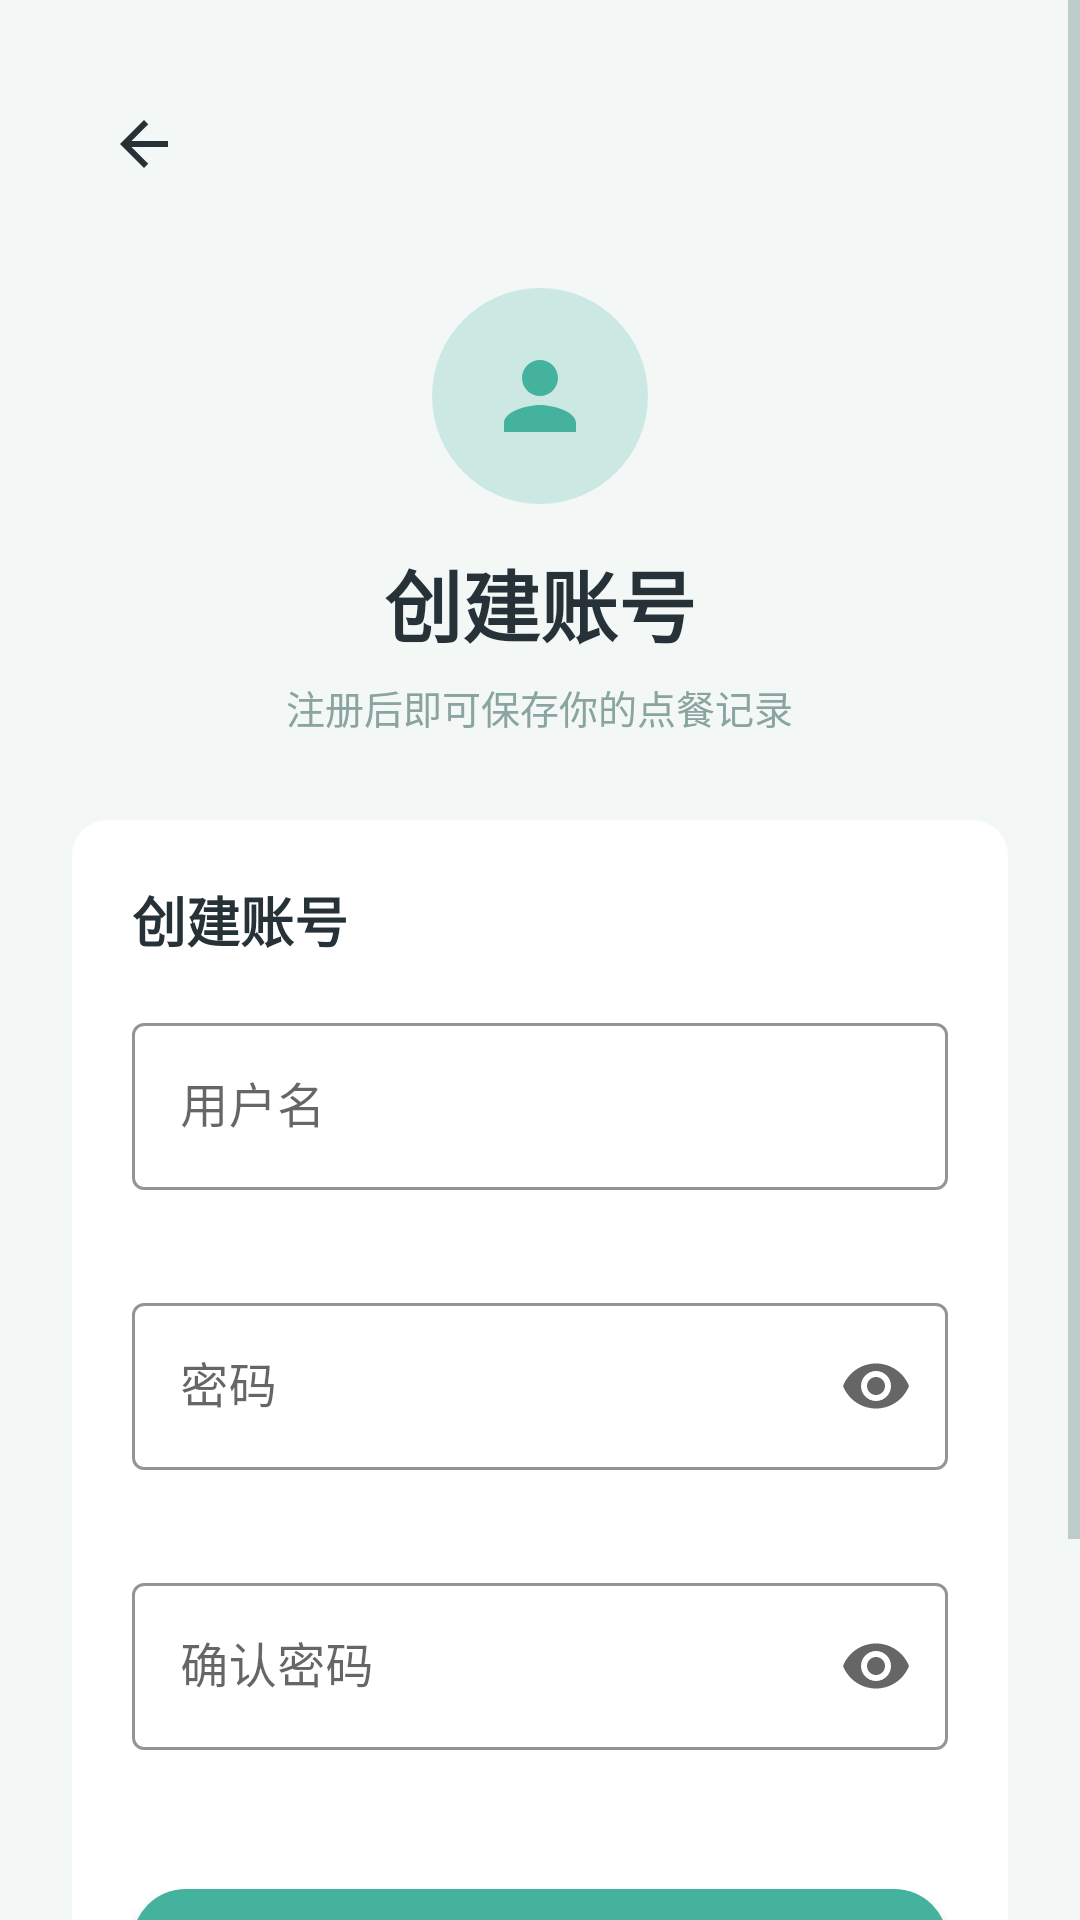

Screen size 1080x1920. Icon name, then its box in pixels as rect(x1, y1, x2, y2):
头像: rect(432, 288, 648, 504)
返回: rect(120, 120, 168, 168)
